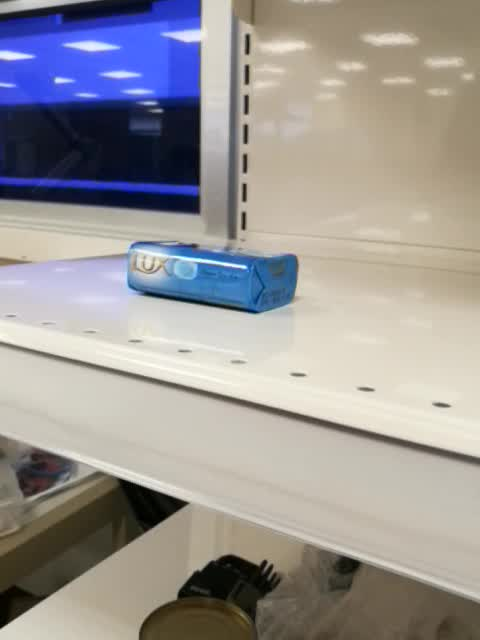soap: (125, 238, 300, 314)
